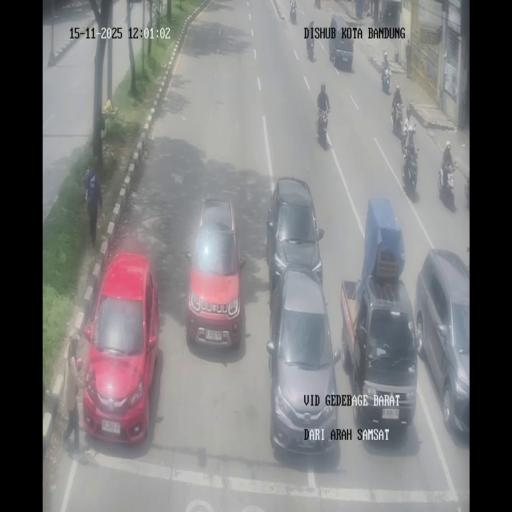car: (81, 252, 159, 444), (266, 266, 340, 456), (414, 252, 470, 439), (265, 175, 324, 298)
truck: (401, 136, 419, 192), (438, 160, 456, 207), (316, 105, 329, 147), (392, 102, 404, 137), (381, 65, 391, 93), (307, 34, 316, 60), (464, 176, 470, 209), (329, 39, 336, 64), (289, 3, 297, 24), (382, 50, 388, 69), (364, 1, 370, 17), (378, 10, 384, 22), (314, 0, 320, 9)
